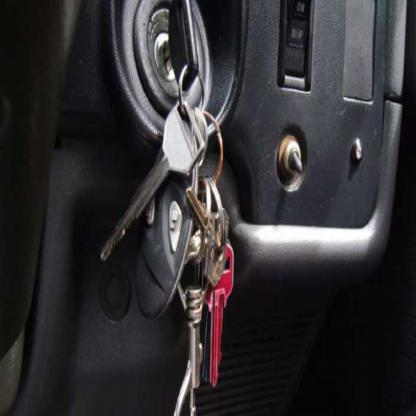keys: (137, 0, 233, 414), (96, 98, 201, 269)
